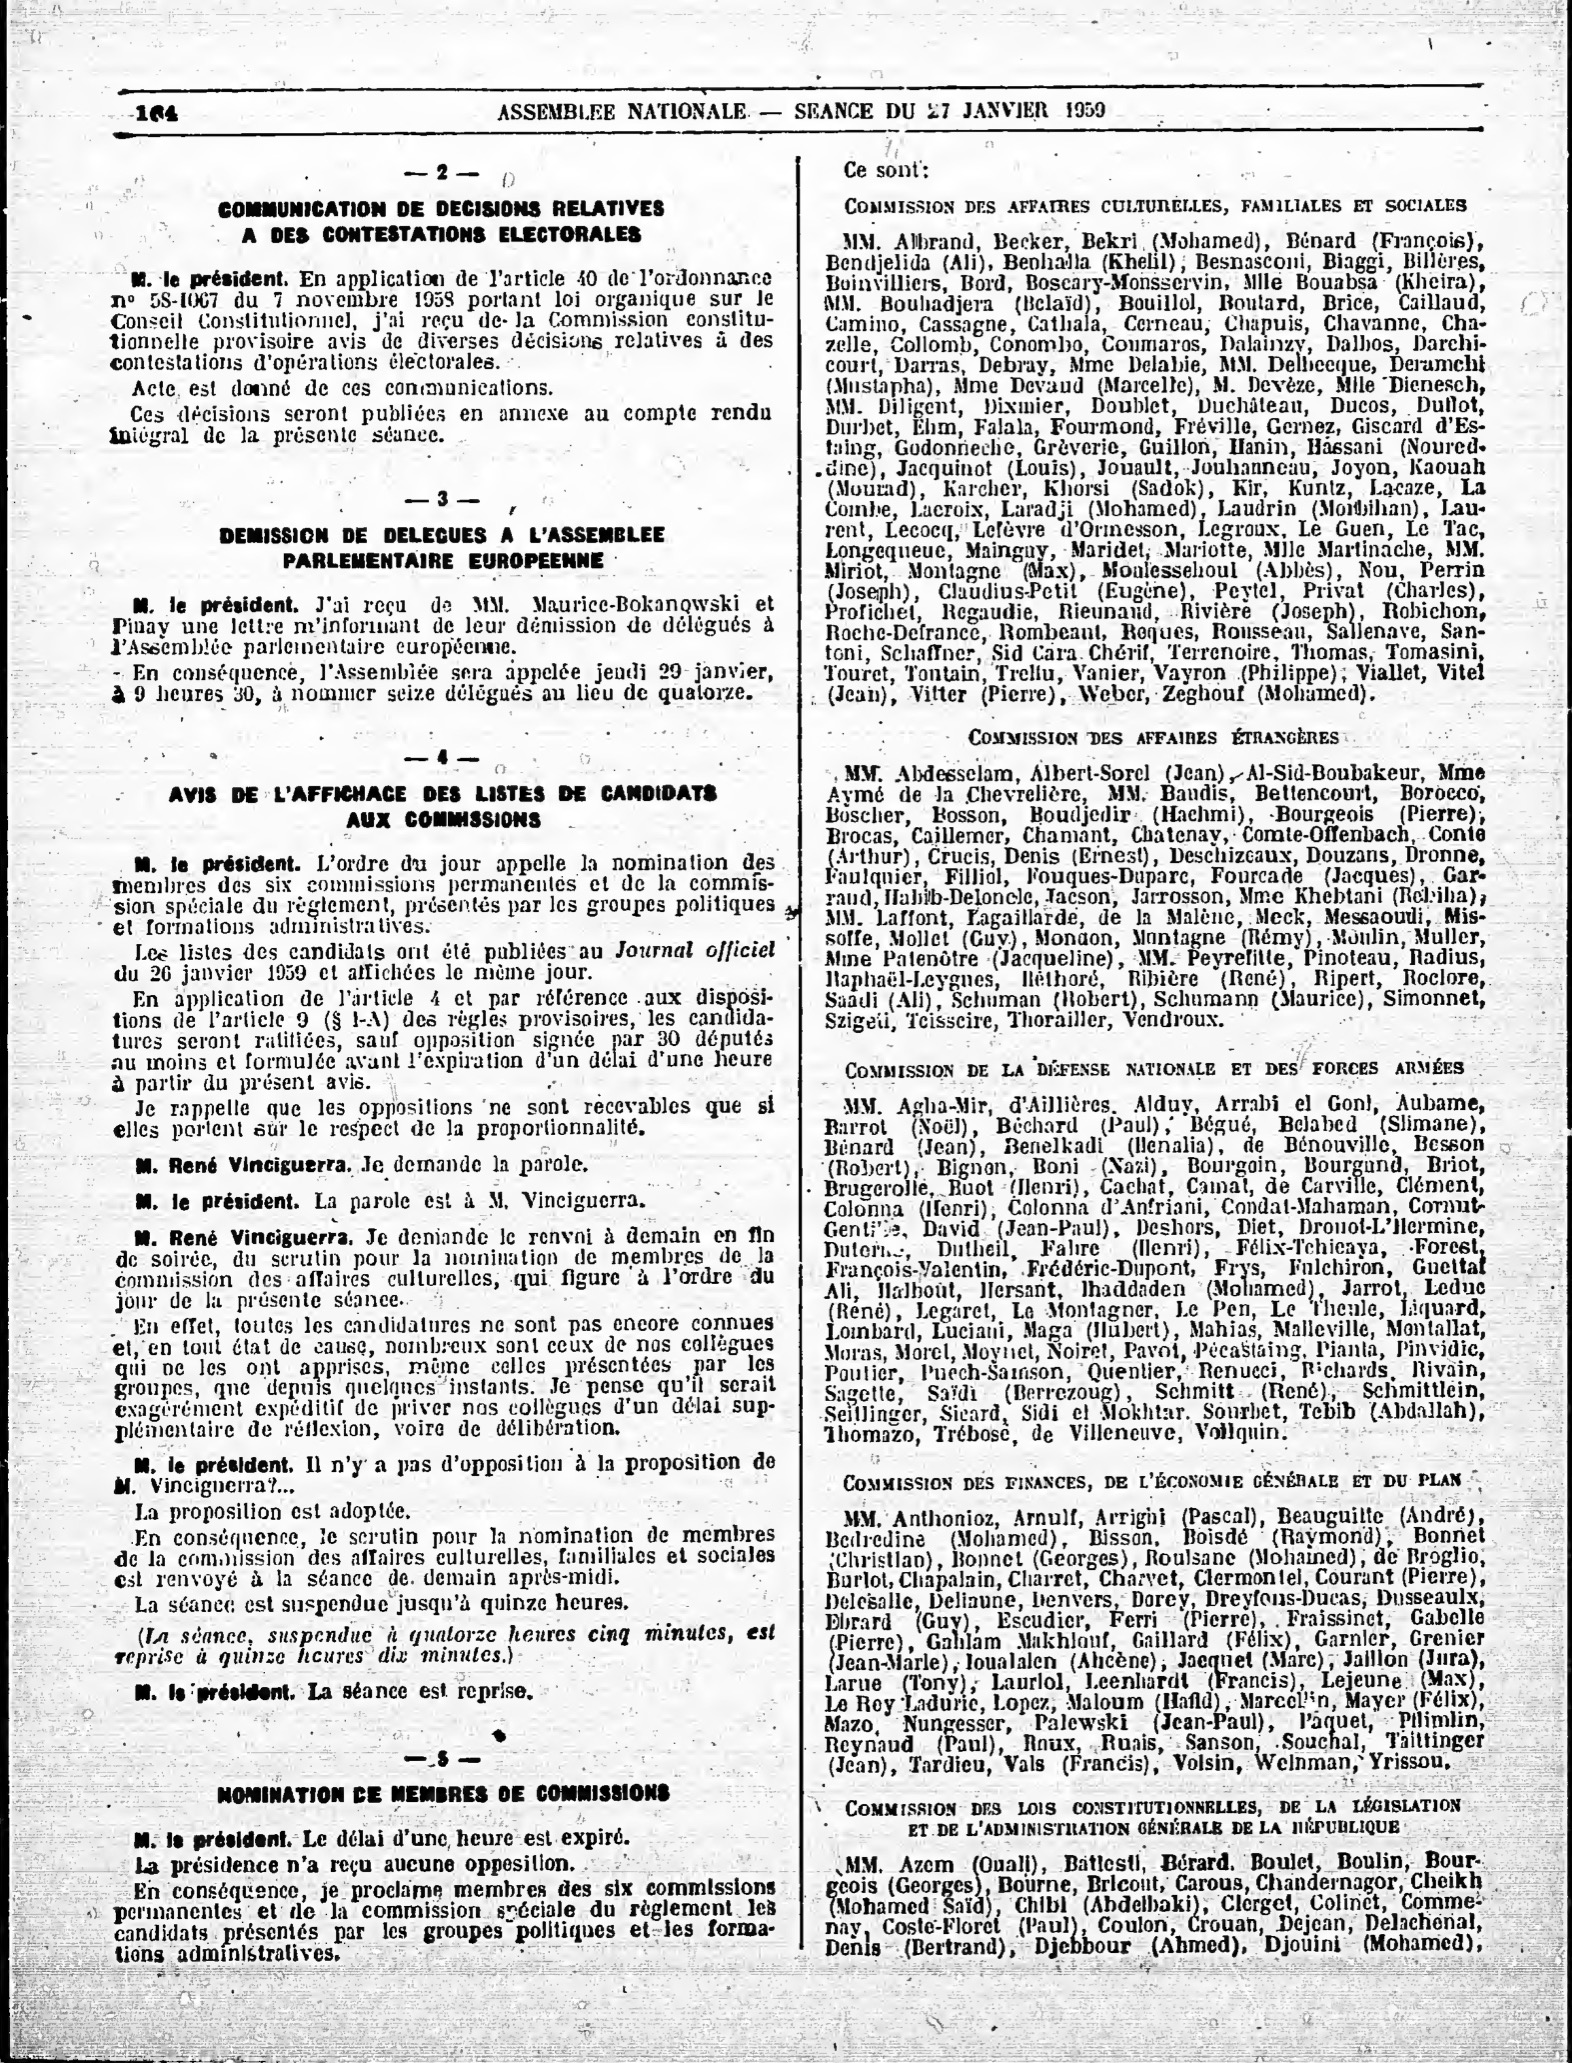MainZone-Head: (829, 1790, 1481, 1844), (162, 776, 728, 838), (210, 191, 673, 252), (210, 518, 674, 578), (830, 1049, 1482, 1088), (828, 1462, 1484, 1500), (830, 187, 1473, 221), (212, 1776, 676, 1811), (956, 718, 1357, 754), (396, 155, 484, 192), (398, 741, 485, 772), (398, 484, 481, 515), (398, 1746, 491, 1772)
MainZone-P: (816, 225, 1496, 711), (822, 1087, 1496, 1447), (820, 758, 1497, 1034), (825, 1501, 1492, 1781), (107, 1311, 782, 1444), (821, 1849, 1491, 1967), (104, 263, 778, 375), (106, 985, 782, 1094), (103, 1876, 780, 1973), (107, 849, 782, 937), (109, 1224, 782, 1312), (105, 589, 779, 659), (108, 1524, 780, 1590), (108, 1620, 782, 1674), (104, 658, 777, 712), (97, 403, 779, 454), (106, 1095, 780, 1146), (107, 1448, 779, 1499), (106, 937, 784, 986), (118, 1184, 665, 1224), (101, 374, 720, 403), (108, 1589, 678, 1620), (116, 1148, 600, 1183), (110, 1823, 631, 1852), (117, 1676, 545, 1710), (102, 1853, 608, 1879), (110, 1497, 420, 1526), (833, 153, 937, 187)
NumberingZone: (128, 97, 184, 130)
RunningTitleZone: (489, 89, 1116, 130)
